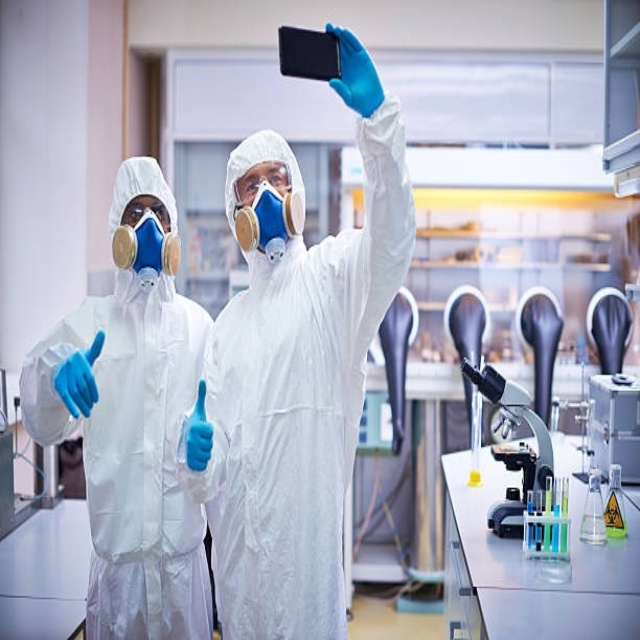Gafas: (233, 164, 292, 207), (123, 201, 171, 230)
Guantes: (325, 22, 386, 119), (54, 330, 106, 420), (185, 379, 214, 472)
Mascara: (236, 183, 304, 260), (131, 214, 166, 280)
